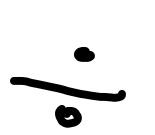div: (9, 46, 126, 130)
